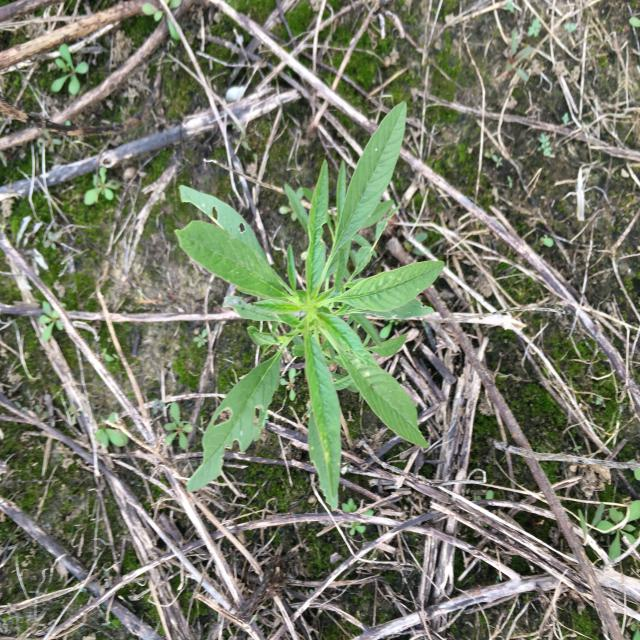Carpetweed: (49, 44, 91, 98)
Waterhemp: (174, 100, 446, 514)
